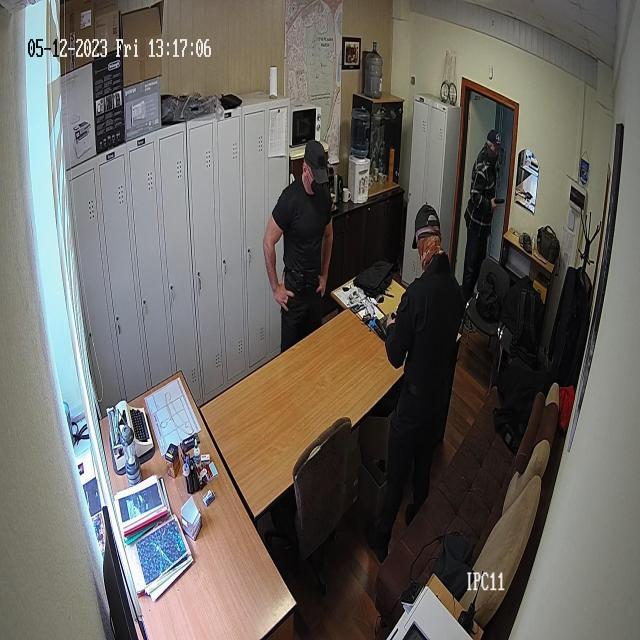pistol: (289, 268, 306, 300), (490, 192, 506, 212)
